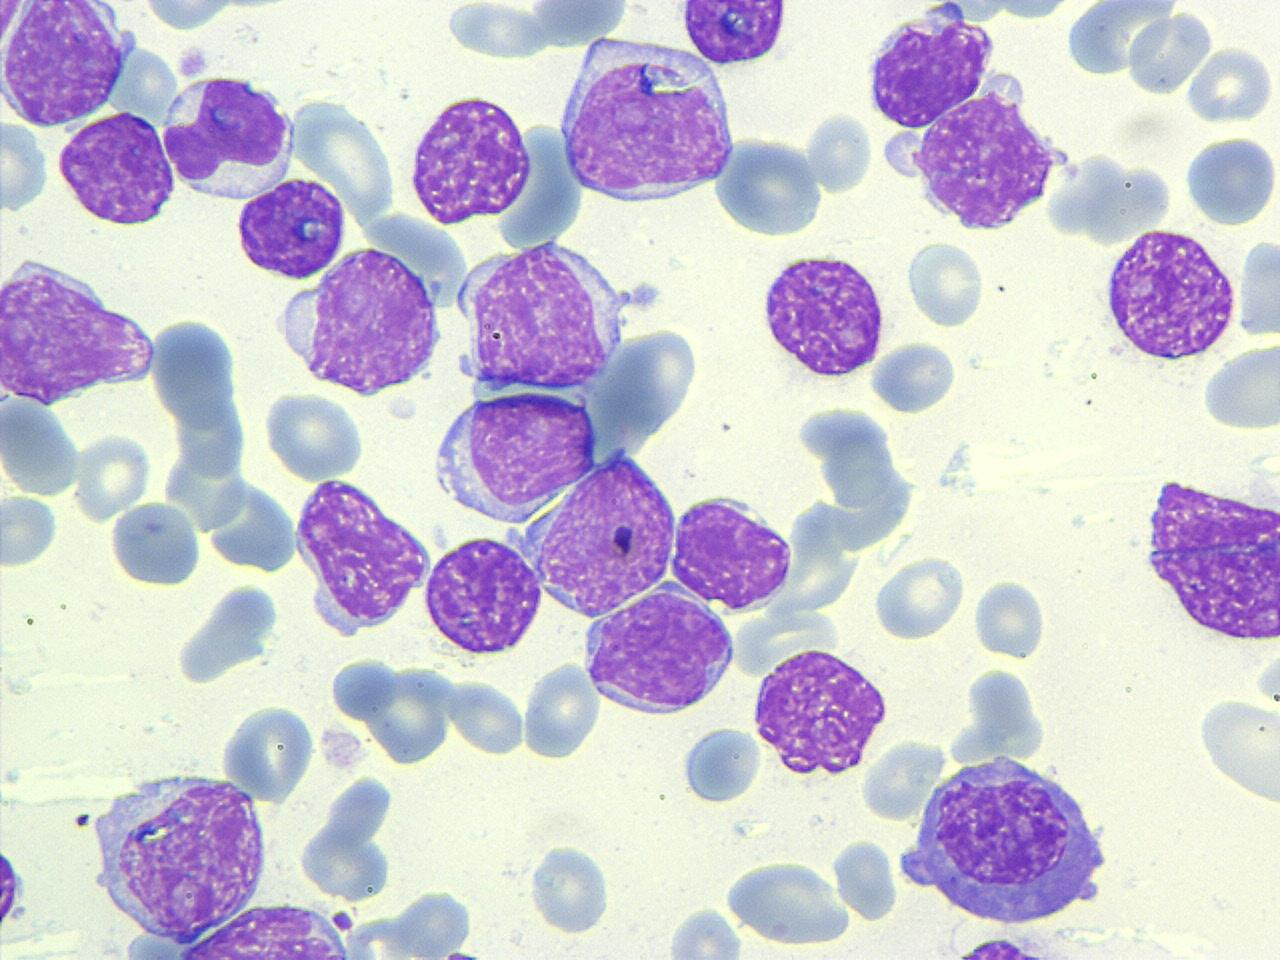Platelets: (867, 336, 958, 417), (1184, 46, 1276, 125), (972, 575, 1053, 662), (442, 2, 553, 62), (804, 108, 876, 195), (328, 653, 397, 721), (0, 842, 27, 936), (1254, 648, 1280, 706), (175, 42, 211, 81), (630, 279, 662, 308)
RBC: (530, 441, 680, 618), (712, 131, 828, 238), (721, 858, 854, 950), (298, 105, 398, 225), (148, 310, 246, 428), (217, 701, 318, 805), (1196, 690, 1280, 810), (262, 388, 370, 481), (1181, 130, 1279, 228), (364, 664, 454, 766), (871, 551, 968, 643), (107, 499, 204, 589), (520, 658, 602, 764), (0, 394, 81, 499), (1198, 335, 1280, 437), (527, 839, 612, 936), (73, 428, 152, 524), (1184, 43, 1276, 127), (868, 337, 959, 415), (905, 237, 984, 329), (446, 673, 528, 759), (972, 572, 1049, 662), (803, 105, 875, 198), (833, 832, 902, 926), (0, 116, 50, 214), (326, 654, 398, 720), (1, 491, 60, 571), (662, 904, 748, 958), (0, 836, 26, 948), (0, 0, 22, 41)
WBC: (870, 12, 1073, 242), (895, 749, 1113, 933), (88, 766, 272, 952), (554, 34, 740, 209), (274, 244, 447, 401), (528, 443, 680, 621), (0, 252, 165, 410), (460, 233, 623, 392), (1137, 467, 1280, 644), (289, 472, 434, 641), (432, 384, 597, 526), (577, 584, 740, 718), (1100, 224, 1242, 368), (750, 645, 894, 781), (158, 71, 304, 204), (404, 91, 538, 230), (862, 0, 997, 135), (758, 247, 890, 384), (0, 0, 136, 132), (664, 486, 797, 614), (420, 529, 550, 659), (54, 108, 179, 228), (296, 770, 403, 904), (233, 174, 352, 284), (154, 902, 368, 960), (723, 858, 853, 952), (174, 579, 283, 689), (216, 701, 318, 806), (1062, 0, 1184, 80), (109, 494, 207, 592), (1182, 131, 1278, 230), (1123, 6, 1211, 99), (676, 0, 796, 67), (1200, 336, 1278, 438), (867, 337, 956, 416), (679, 724, 761, 805), (661, 904, 748, 958), (127, 0, 256, 33)
